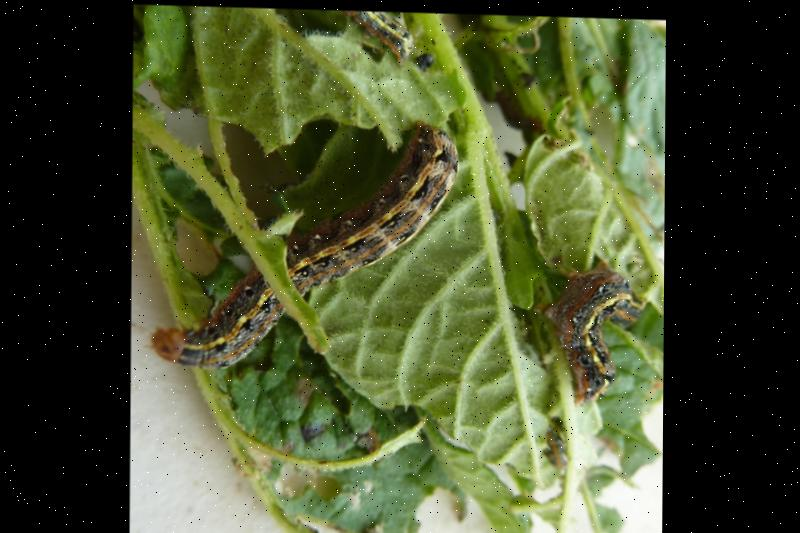fall-armyworm: (151, 116, 459, 366), (543, 252, 648, 402), (342, 9, 414, 61)
